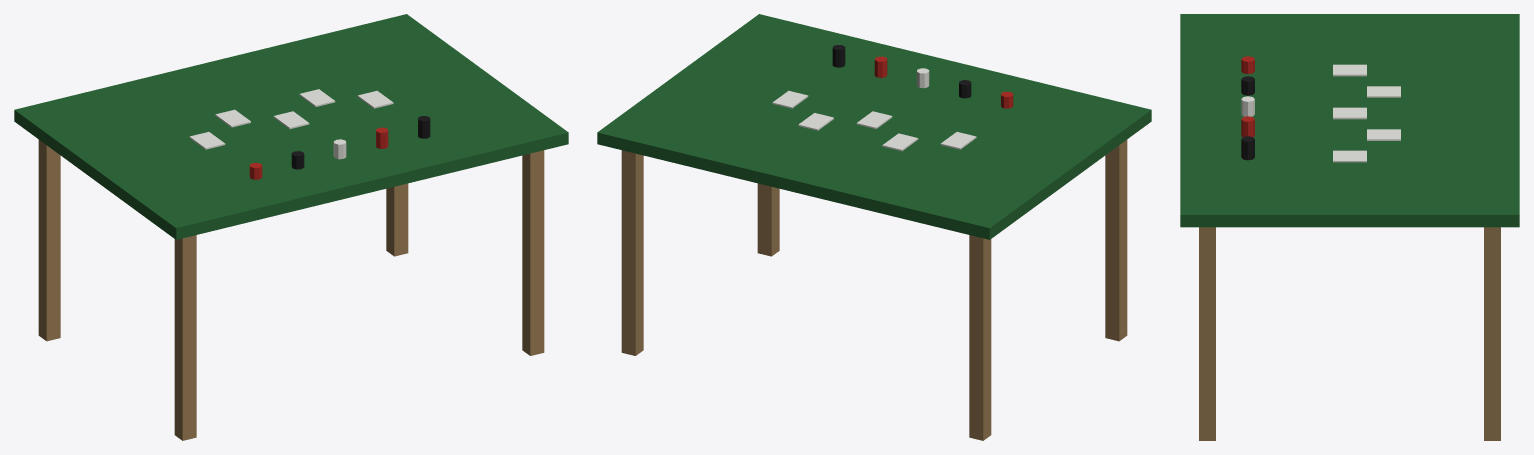
File: card table.glb
The picture shows the model from 3 angles, left to right: view 1: azimuth 30°, elevation 25°; view 2: azimuth 150°, elevation 25°; view 3: azimuth 270°, elevation 25°; orthographic projection. The views are drawn at different scales.
Parts seen in each view (by area): view 1: card table; view 2: card table; view 3: card table.
Boxes of the visible parts, x1,y1,x2,y2 form: card table: (14,14,568,440); card table: (597,14,1151,440); card table: (1180,14,1519,440).
Size of the model in its own units: 1.4 by 0.82 by 1.
